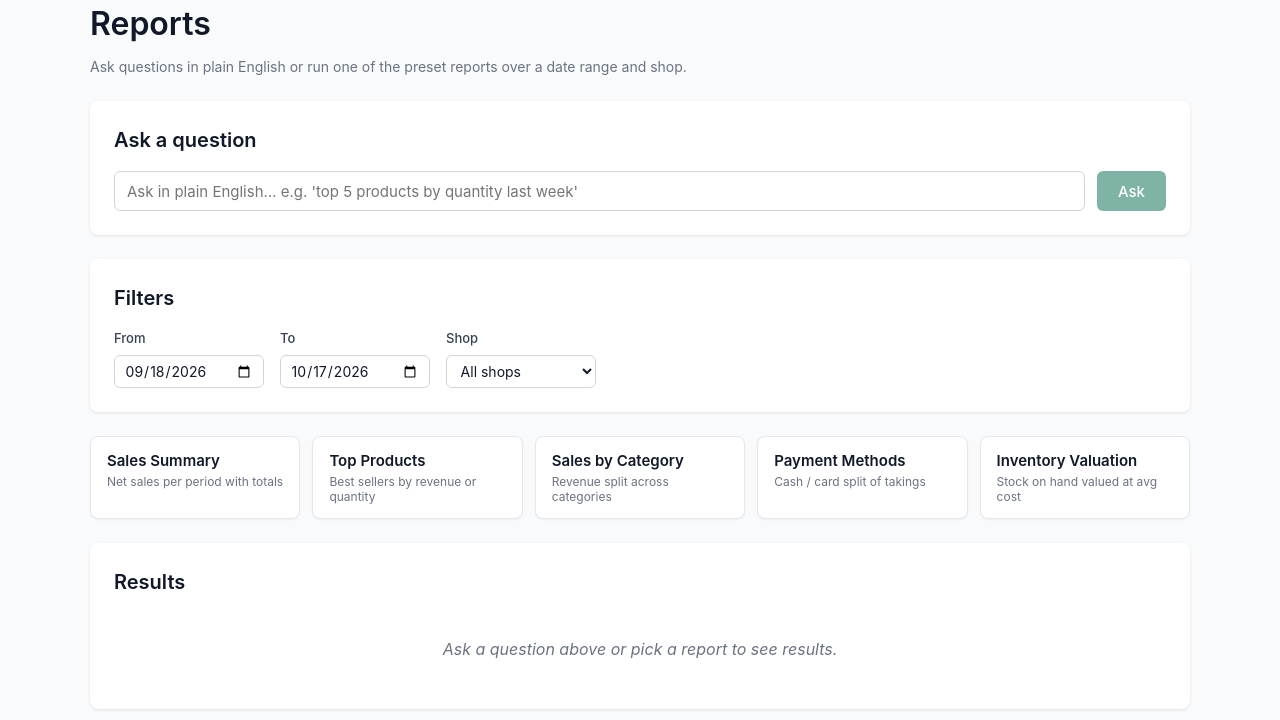
Test: Reports page › runs the sales summary report with the default last-30-days range
Click the button "Sales Summary Net sales per period with totals".
click(195, 478)  # box [90,436,300,520]
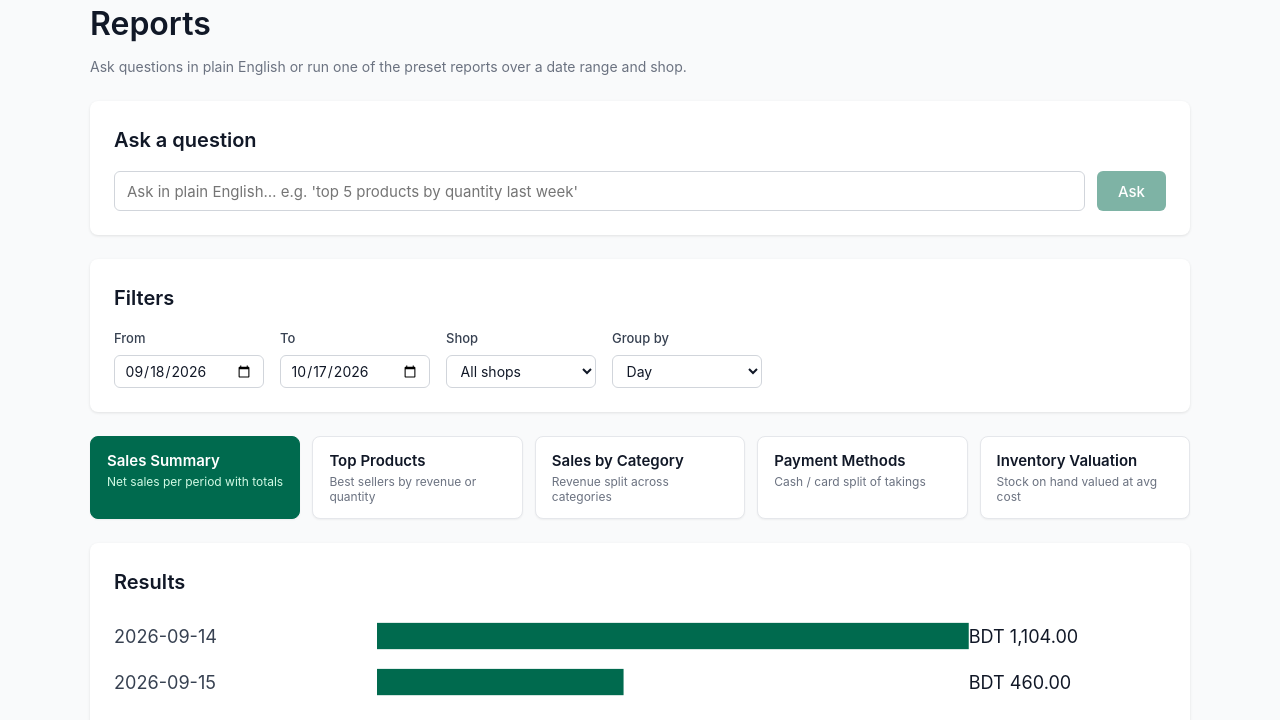
Expected: the dropdown labelled "Group by" shows "Day", [612,355,762,388]
